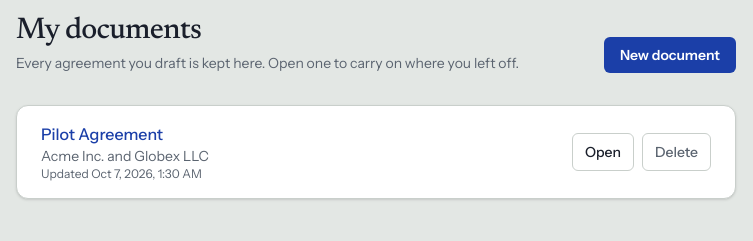
Test: DocumentList › keeps a document that could not be deleted, and says so
Click the button with aria-label "Delete Pilot" at (676, 152), box [642,133,711,171]
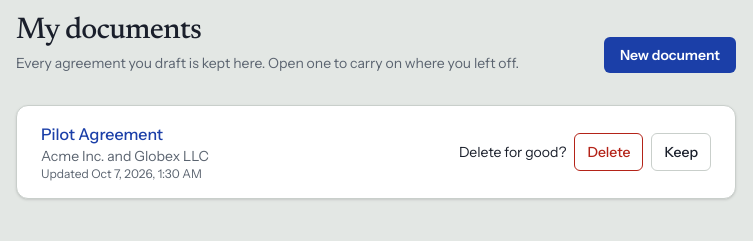
Click the button "Delete" at (609, 152), box [574,133,643,171]
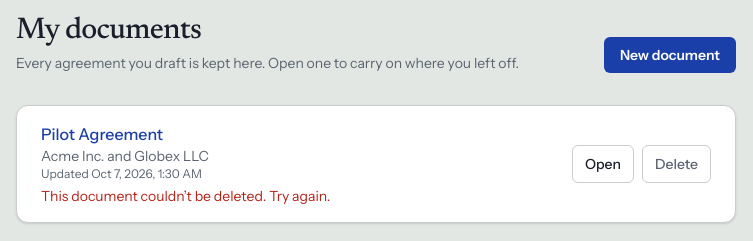
Now the message reads "This document couldn’t be deleted. Try again.", box [41,187,330,205]
Now the link "Open" is shown, box [572,145,634,183]
